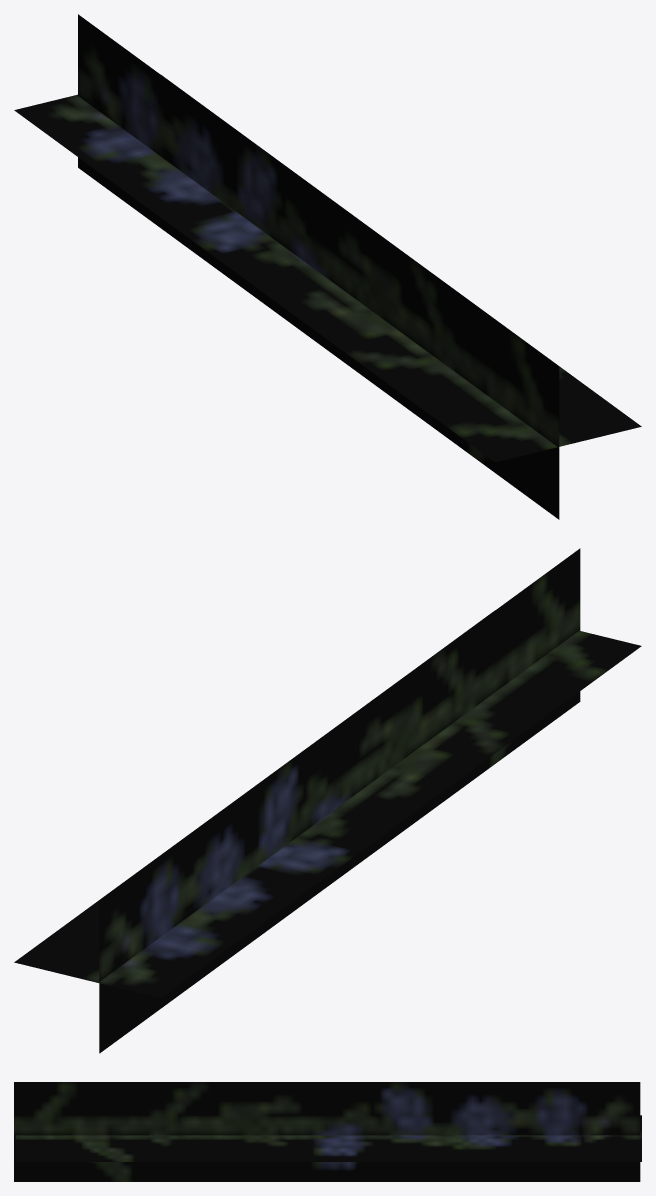
Rendered from SM_EC_Plant_Card_Cross_03.fbx.
3 views of the same model, one above another, from view 1: azimuth 30°, elevation 25°; view 2: azimuth 150°, elevation 25°; view 3: azimuth 270°, elevation 25° (orthographic). The views are drawn at different scales.
Visible parts, largest first — view 1: SM_EC_Plant_Card_Cross_03; view 2: SM_EC_Plant_Card_Cross_03; view 3: SM_EC_Plant_Card_Cross_03.
Part boxes in pixels (left/top/right/bottom): SM_EC_Plant_Card_Cross_03: left=14, top=14, right=641, bottom=519; SM_EC_Plant_Card_Cross_03: left=14, top=548, right=641, bottom=1053; SM_EC_Plant_Card_Cross_03: left=14, top=1082, right=641, bottom=1181.
Size of the model in its own units: 0.2232 by 1.27 by 0.2232.
